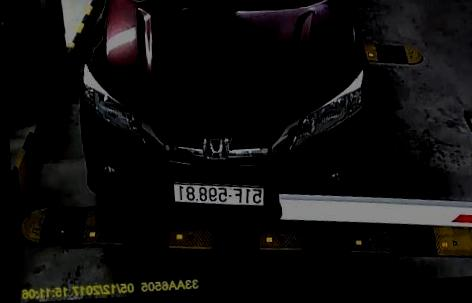License_Plate: (172, 175, 268, 215)
